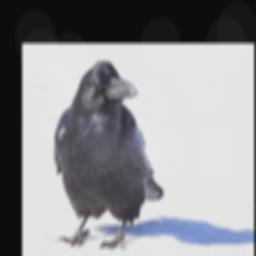Crow: (53, 58, 165, 250)
